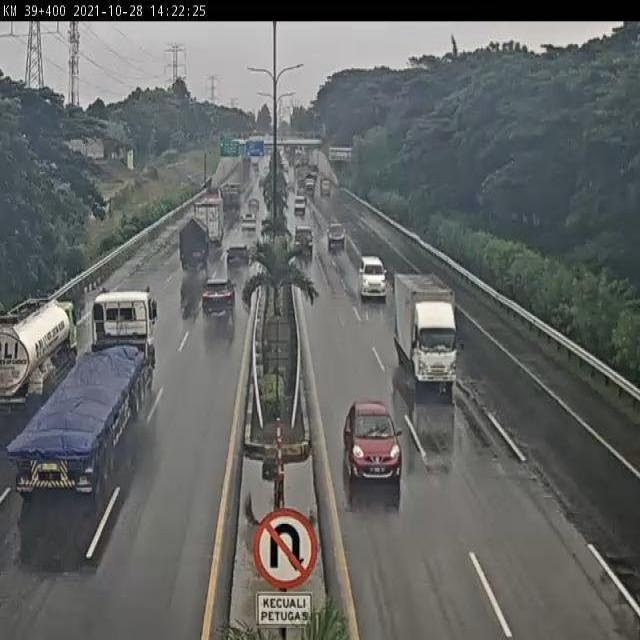big truck: (76, 284, 166, 484), (195, 182, 230, 242)
car: (339, 400, 405, 488), (197, 280, 237, 328), (355, 253, 390, 304), (325, 219, 351, 252), (224, 245, 252, 275), (238, 211, 261, 240), (297, 231, 318, 261), (289, 191, 311, 216), (247, 198, 260, 218)
small truck: (396, 271, 464, 396), (0, 297, 84, 375), (176, 217, 212, 276)
